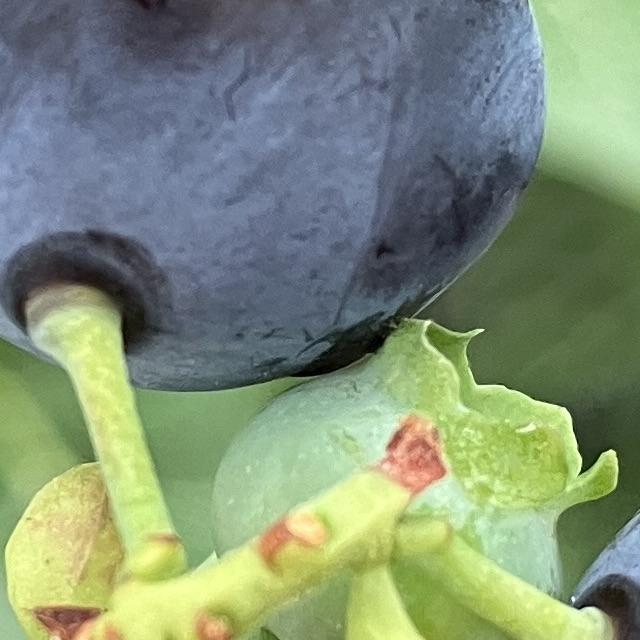Blueberries: (0, 0, 560, 395)
